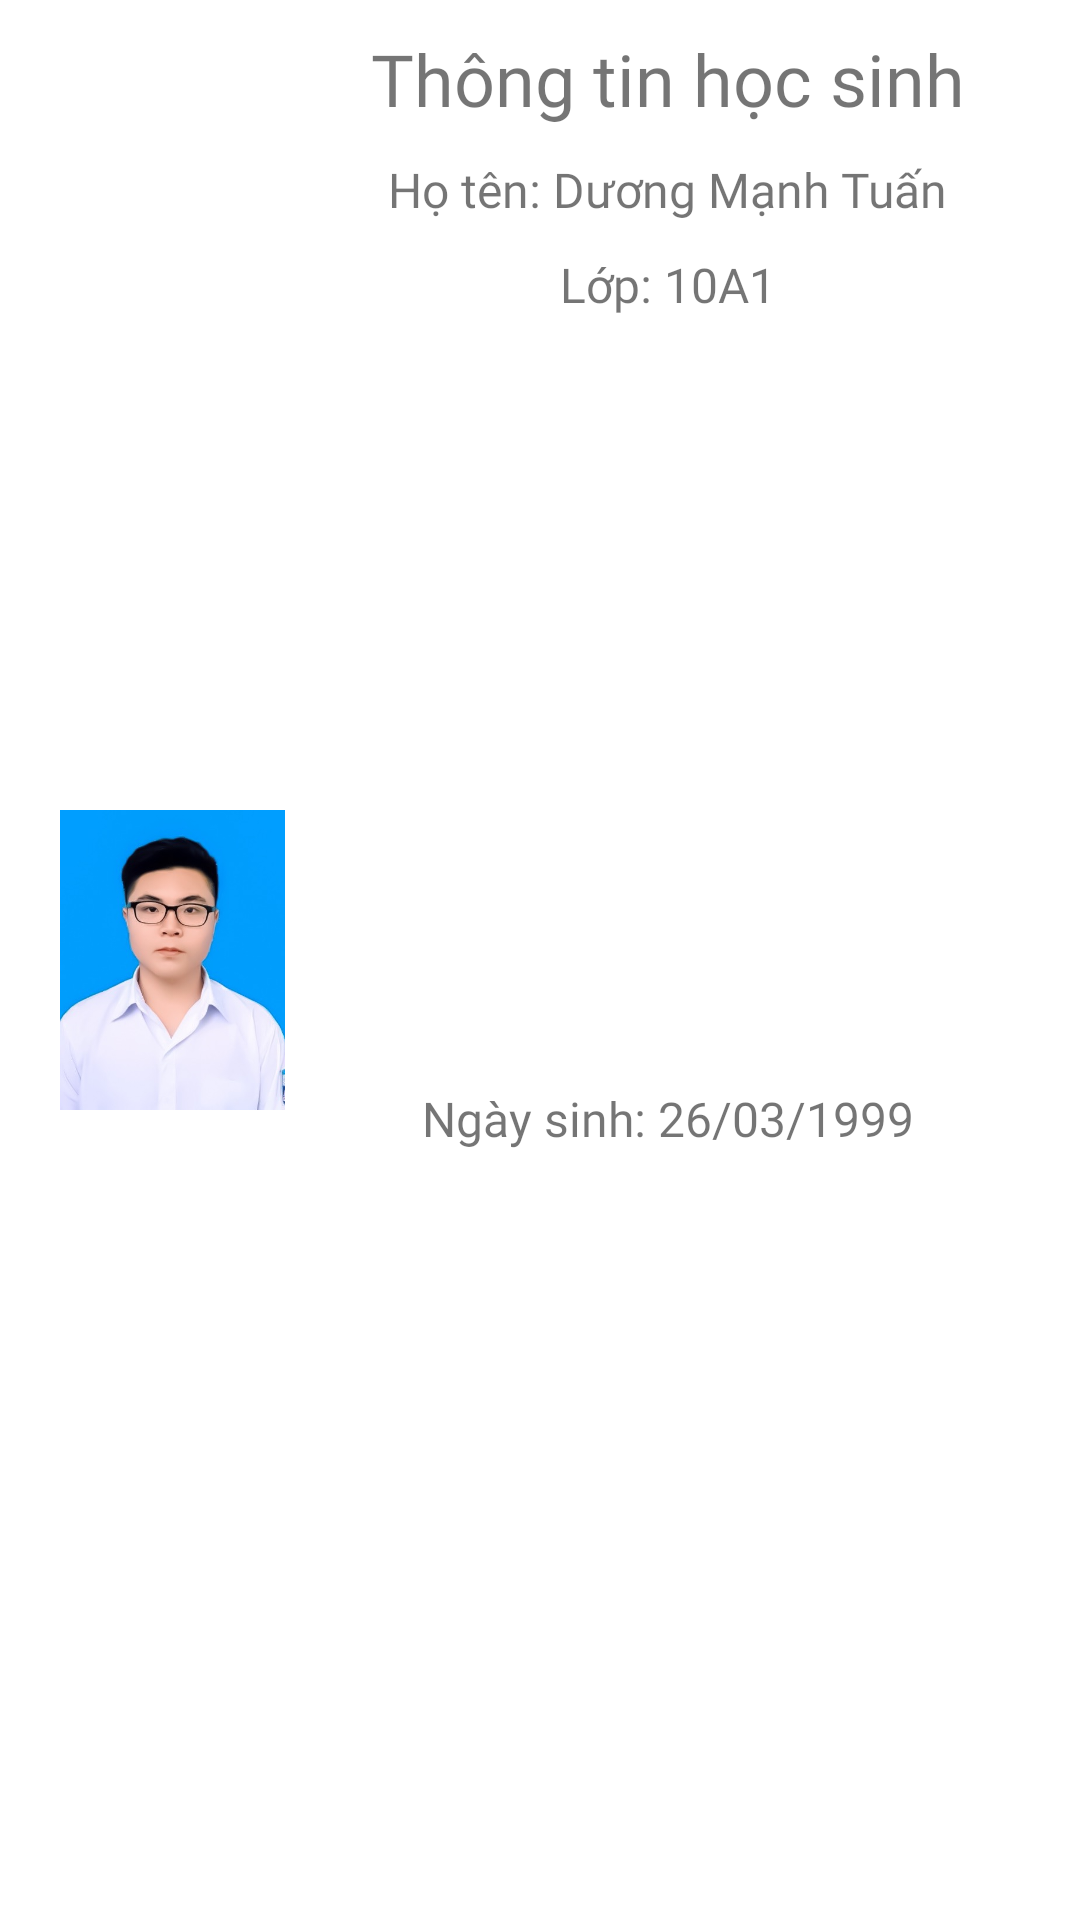

Where icons sit on this 1080 x 1920 app screen, as (x1, y1, x2, y2):
student: (60, 810, 285, 1110)
